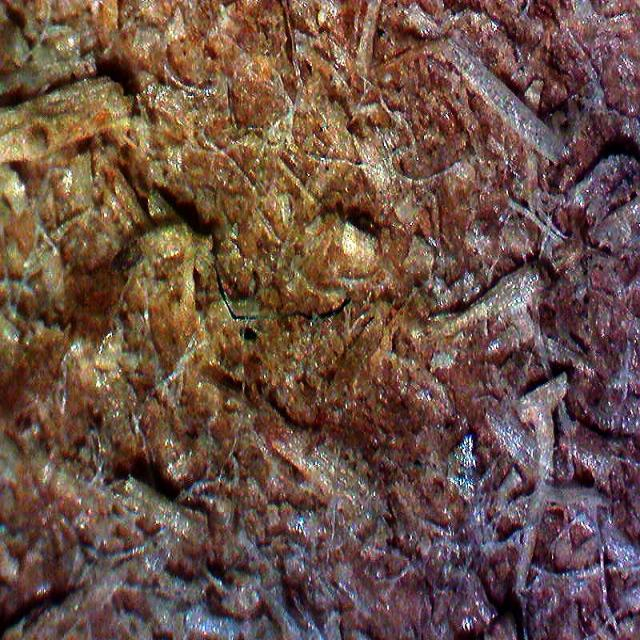microplastic: (217, 277, 352, 319)
